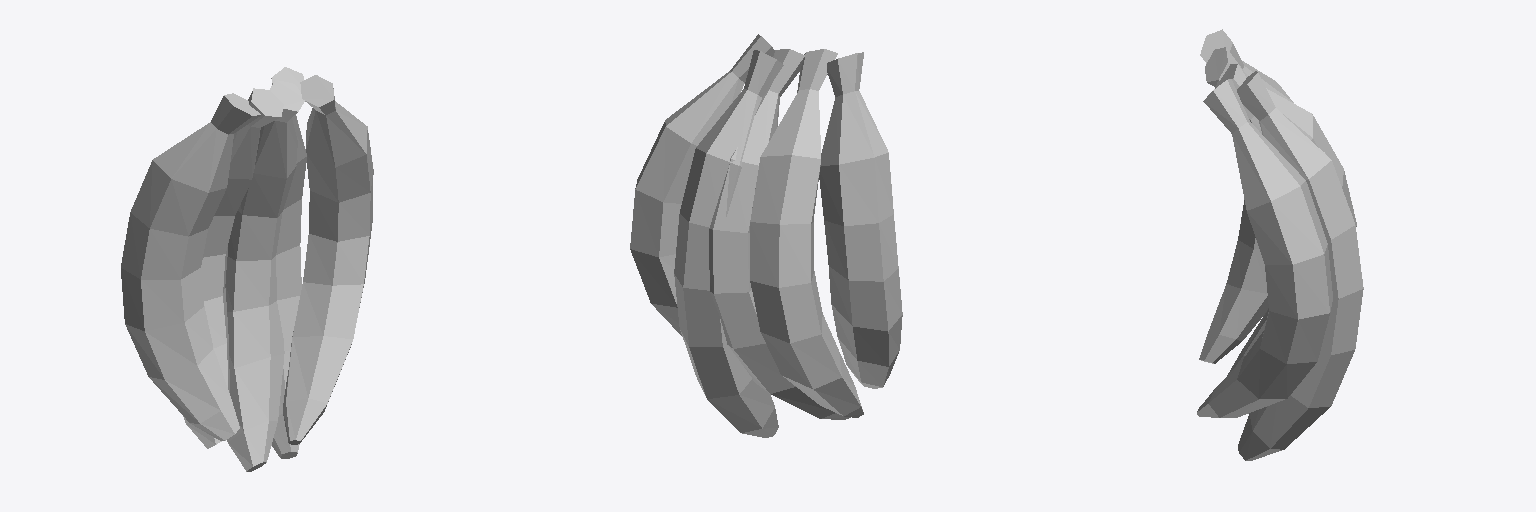
Rendered from Banana.obj.
3 views of the same model, side by side, from view 1: azimuth 30°, elevation 25°; view 2: azimuth 150°, elevation 25°; view 3: azimuth 270°, elevation 25° (orthographic).
Visible parts, largest first — view 1: Banana_; view 2: Banana_; view 3: Banana_.
Part boxes in pixels (left/top/right/bottom): Banana_: left=121, top=67, right=373, bottom=471; Banana_: left=630, top=34, right=902, bottom=437; Banana_: left=1197, top=29, right=1363, bottom=460.
Size of the model in its own units: 0.5909 by 0.8838 by 0.3403.